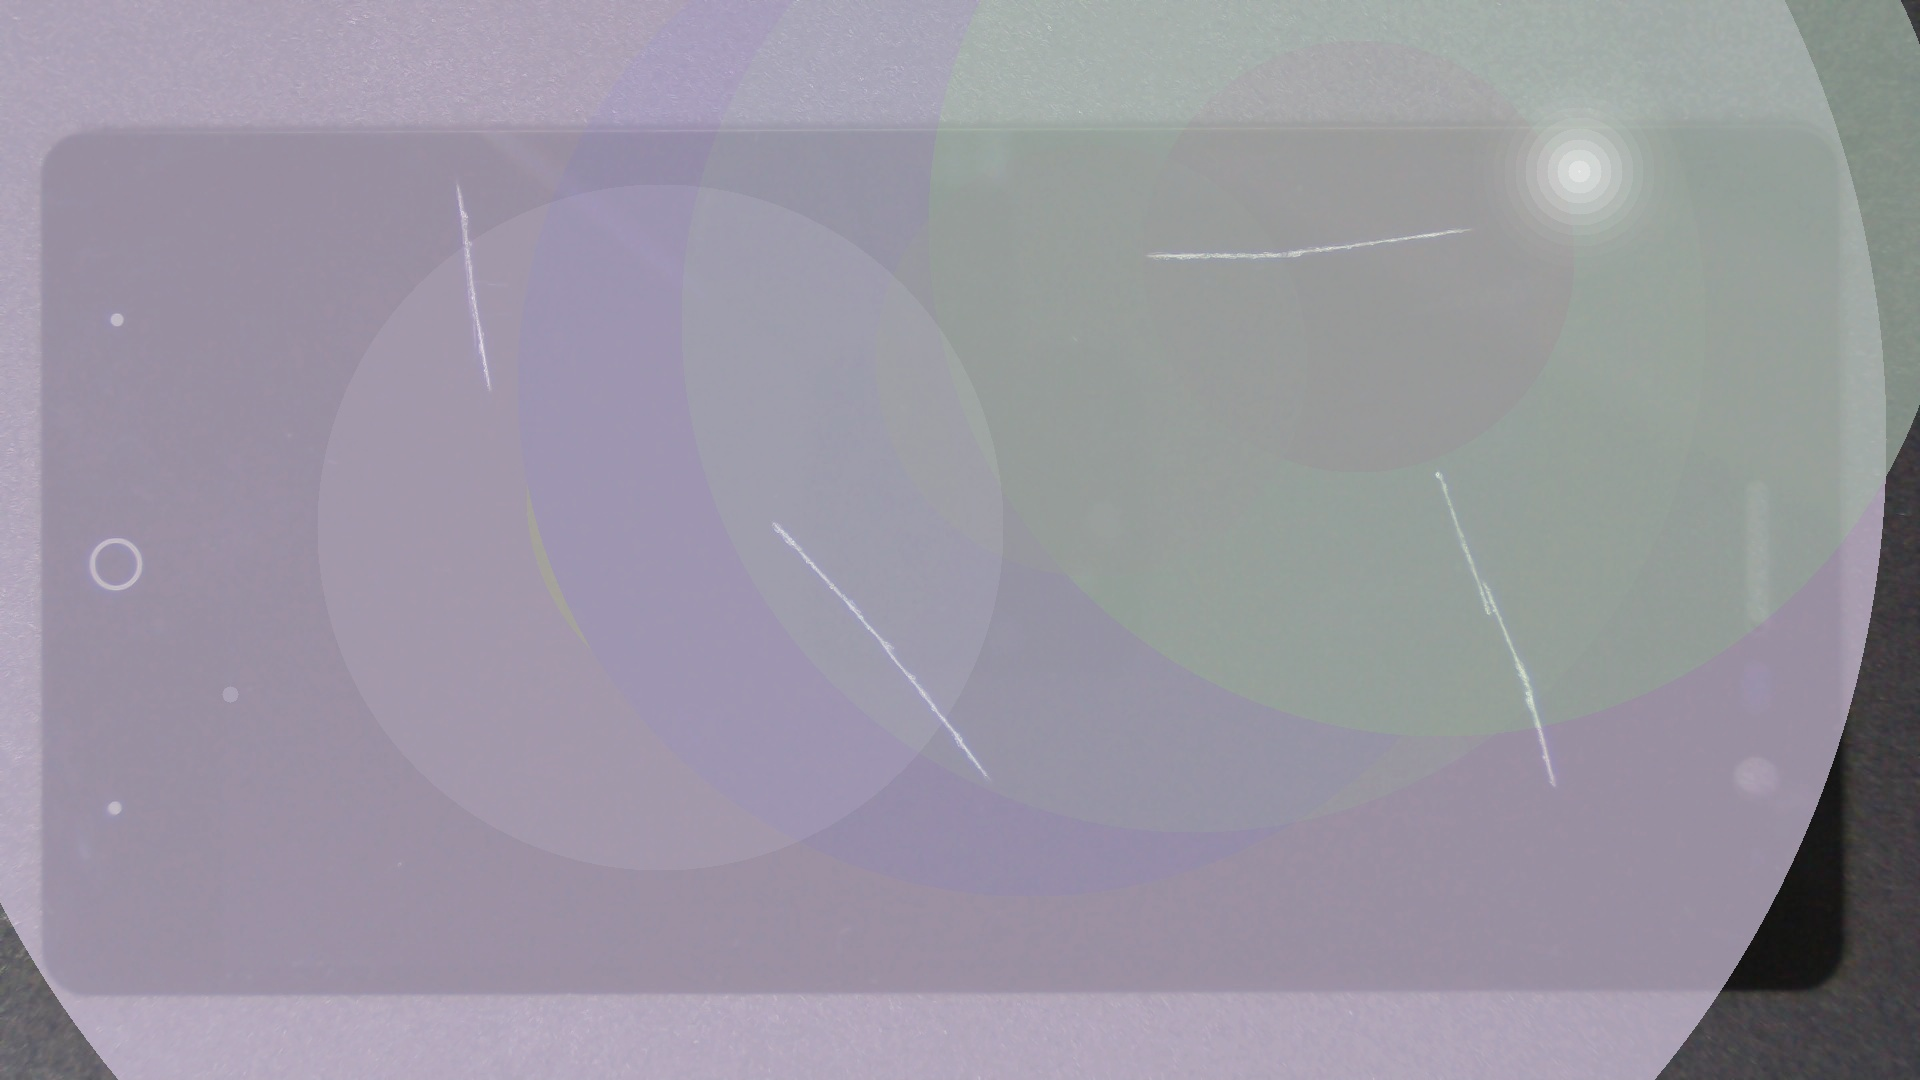oil: (719, 235, 1920, 705), (385, 260, 1156, 782), (727, 113, 1920, 342), (228, 90, 684, 272)
